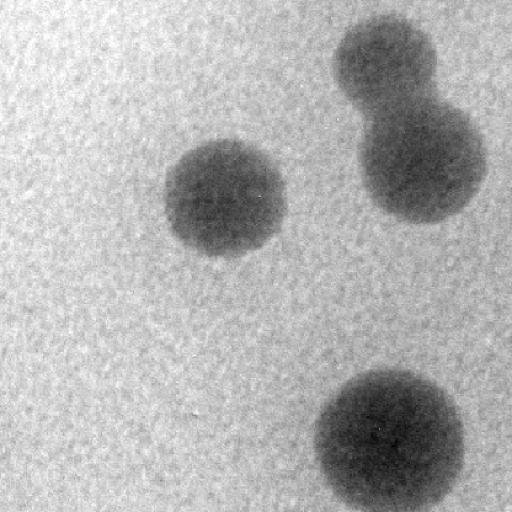Nanoparticles: (315, 369, 464, 512), (361, 103, 488, 226), (164, 136, 285, 262), (330, 14, 436, 112)
